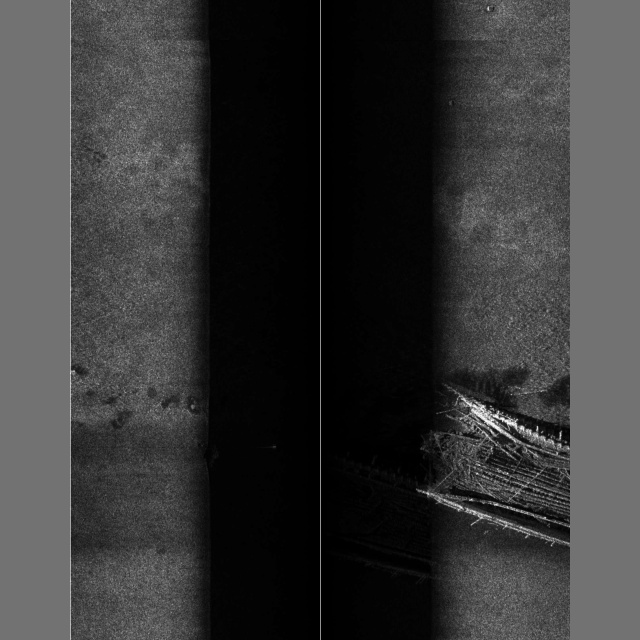Shipwreck: (332, 382, 570, 584)
